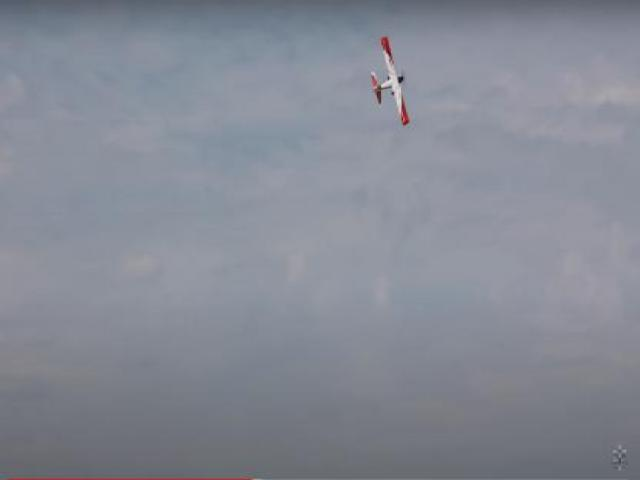uav: (368, 33, 410, 126)
